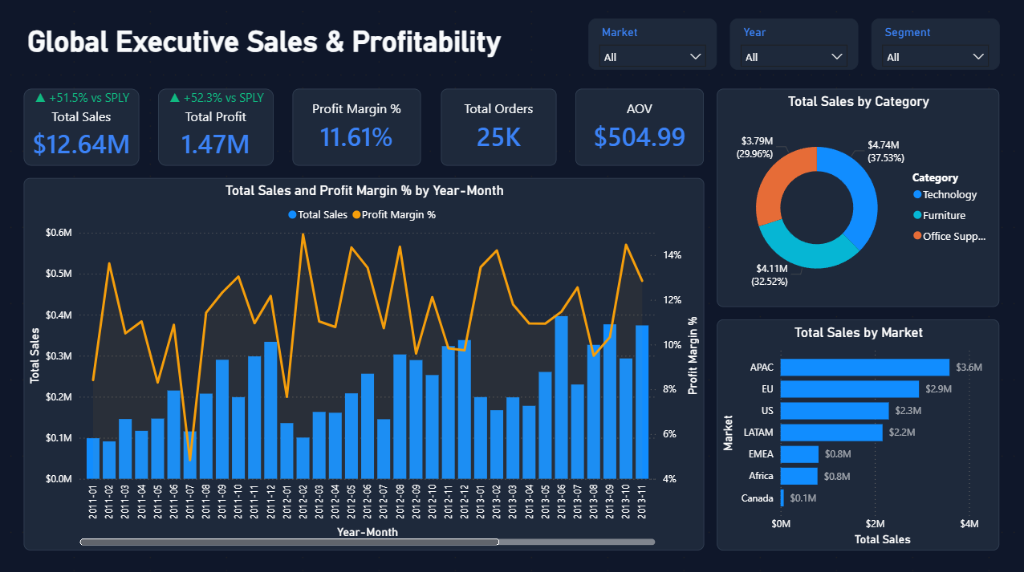

What the dashboard file says about the page in this screenshot:
{"tool":"powerbi","page":{"name":"Page 1","canvas":[1280,720],"ordinal":0},"visuals":[{"type":"textbox","title":"Global Executive Sales & Profitability","box":[32,32.9,608,48],"z":0},{"type":"cardVisual","fields":{"Data":["Sheet1.Total Sales"]},"box":[32,112,144,96],"z":1000},{"type":"cardVisual","fields":{"Data":["Sheet1.Total Profit"]},"box":[200,112,144,96],"z":2000},{"type":"cardVisual","fields":{"Data":["Sheet1.Profit Margin %"]},"box":[368,112,160,96],"z":3000},{"type":"cardVisual","fields":{"Data":["Sheet1.Total Orders"]},"box":[552,112,144,96],"z":4000},{"type":"lineClusteredColumnComboChart","fields":{"Category":["Dim_Date.Year-Month"],"Y":["Sheet1.Total Sales"],"Y2":["Sheet1.Profit Margin %"]},"box":[32,224,848,464],"z":5000},{"type":"donutChart","fields":{"Category":["Sheet1.Category"],"Y":["Sheet1.Total Sales"]},"box":[896,112,352,272],"z":6000},{"type":"clusteredBarChart","fields":{"Y":["Sheet1.Total Sales"],"Category":["Sheet1.Market"]},"box":[896,400,352,288],"z":7000},{"type":"group","id":"g1","title":"Group 1","box":[736,24.9,512,64],"z":8000},{"type":"slicer","fields":{"Values":["Sheet1.Market"]},"box":[736,24.9,160,64],"z":9000,"group":"g1"},{"type":"cardVisual","fields":{"Data":["Sheet1.AOV"]},"box":[720,112,160,96],"z":9000},{"type":"slicer","fields":{"Values":["Sheet1.Segment"]},"box":[1088,24.9,160,64],"z":10000,"group":"g1"},{"type":"slicer","fields":{"Values":["Dim_Date.Year"]},"box":[912,24.9,160,64],"z":11000,"group":"g1"}]}

Visuals, with their boxes in screenshot pixels (x1, y1, x2, y2), scaled from the page's 1280x720 canvas onto the 1024x572 screenshot:
"Global Executive Sales & Profitability" textbox: {"x1": 26, "y1": 26, "x2": 512, "y2": 64}
cardVisual - Sheet1.Total Sales: {"x1": 26, "y1": 89, "x2": 141, "y2": 165}
cardVisual - Sheet1.Total Profit: {"x1": 160, "y1": 89, "x2": 275, "y2": 165}
cardVisual - Sheet1.Profit Margin %: {"x1": 294, "y1": 89, "x2": 422, "y2": 165}
cardVisual - Sheet1.Total Orders: {"x1": 442, "y1": 89, "x2": 557, "y2": 165}
lineClusteredColumnComboChart - Dim_Date.Year-Month x Sheet1.Total Sales: {"x1": 26, "y1": 178, "x2": 704, "y2": 547}
donutChart - Sheet1.Category x Sheet1.Total Sales: {"x1": 717, "y1": 89, "x2": 998, "y2": 305}
clusteredBarChart - Sheet1.Total Sales x Sheet1.Market: {"x1": 717, "y1": 318, "x2": 998, "y2": 547}
"Group 1" group: {"x1": 589, "y1": 20, "x2": 998, "y2": 71}
slicer - Sheet1.Market: {"x1": 589, "y1": 20, "x2": 717, "y2": 71}
cardVisual - Sheet1.AOV: {"x1": 576, "y1": 89, "x2": 704, "y2": 165}
slicer - Sheet1.Segment: {"x1": 870, "y1": 20, "x2": 998, "y2": 71}
slicer - Dim_Date.Year: {"x1": 730, "y1": 20, "x2": 858, "y2": 71}
